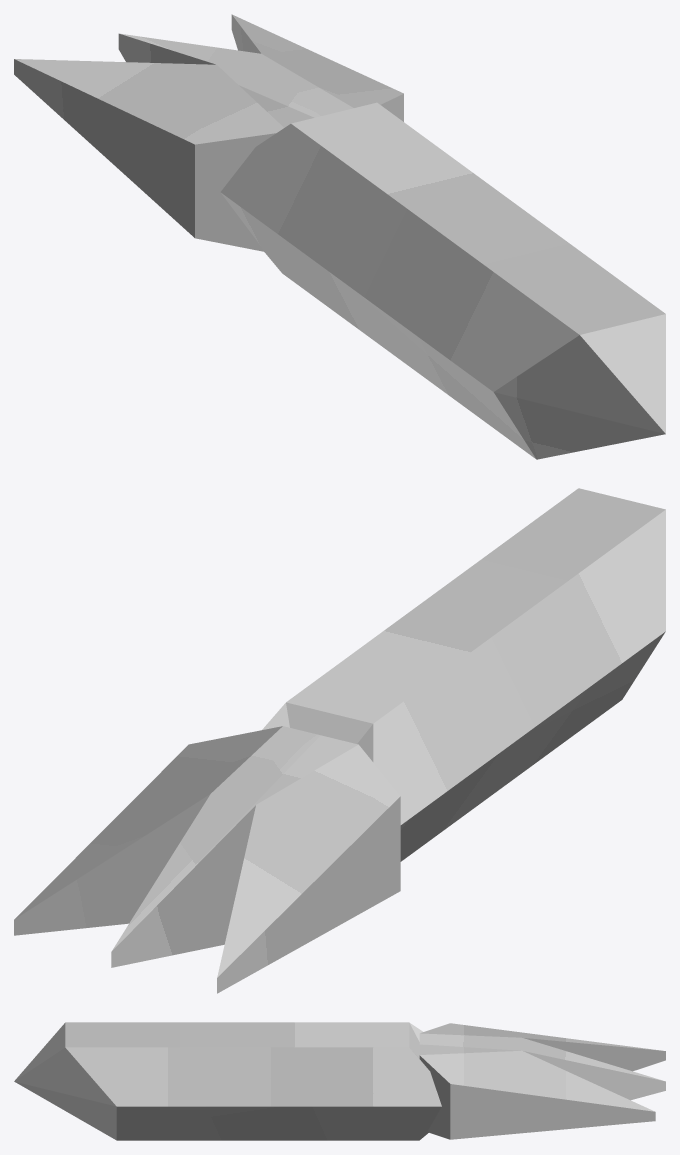
The model's file is fork 1.fbx.
The picture shows the model from 3 angles, top to bottom: view 1: azimuth 30°, elevation 25°; view 2: azimuth 150°, elevation 25°; view 3: azimuth 270°, elevation 25°; orthographic projection. The views are drawn at different scales.
Visible parts, largest first — view 1: cylinder, cuboid; view 2: cylinder, cuboid; view 3: cylinder, cuboid.
Part boxes in pixels (box(x1,y1,x2,y2)): cylinder: box(220, 102, 665, 459); cuboid: box(14, 14, 403, 251); cylinder: box(262, 488, 665, 861); cuboid: box(14, 726, 400, 993); cylinder: box(14, 1022, 441, 1140); cuboid: box(419, 1023, 665, 1139).
Bounding box in the file's own units: 8.75 × 6.25 × 39.69.
Materials: 1 (1 with a texture image).
